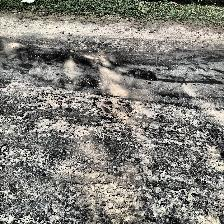pothole: (92, 92, 132, 120)
